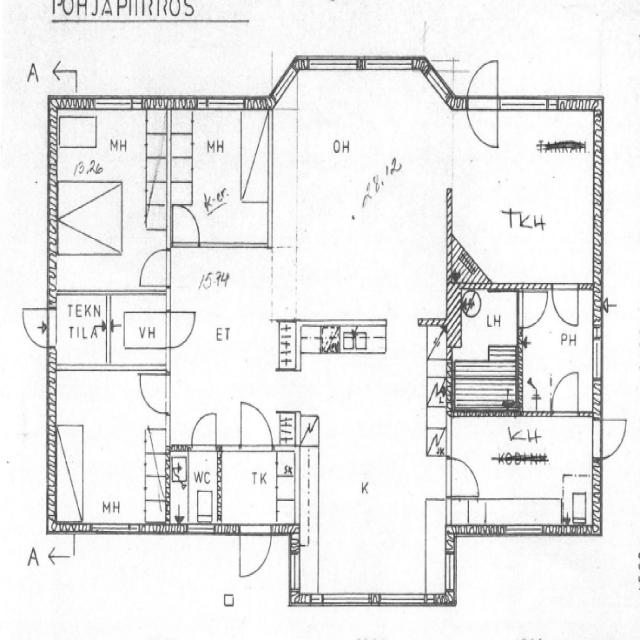door: (284, 67, 444, 330), (169, 449, 218, 531), (464, 59, 502, 154), (237, 397, 275, 454), (238, 524, 274, 582), (547, 366, 583, 419), (136, 369, 172, 419), (446, 454, 483, 502), (135, 244, 172, 292), (550, 280, 582, 330), (518, 286, 550, 334), (165, 307, 199, 352), (170, 202, 202, 248), (188, 408, 220, 453), (598, 416, 629, 461), (21, 311, 51, 350)
window: (321, 51, 400, 76), (196, 236, 266, 254), (307, 52, 359, 75), (361, 52, 414, 73), (320, 590, 373, 610), (89, 92, 137, 113), (378, 590, 426, 610), (205, 91, 248, 113), (500, 520, 547, 540), (89, 519, 134, 539)
zone: (282, 66, 452, 327), (304, 349, 440, 603), (451, 106, 598, 287), (169, 245, 281, 450), (51, 104, 168, 277), (50, 365, 167, 532), (450, 414, 597, 527), (170, 102, 270, 248), (519, 288, 600, 412), (450, 292, 520, 414), (216, 449, 296, 531), (107, 292, 170, 368), (50, 292, 111, 369), (167, 449, 218, 531)
